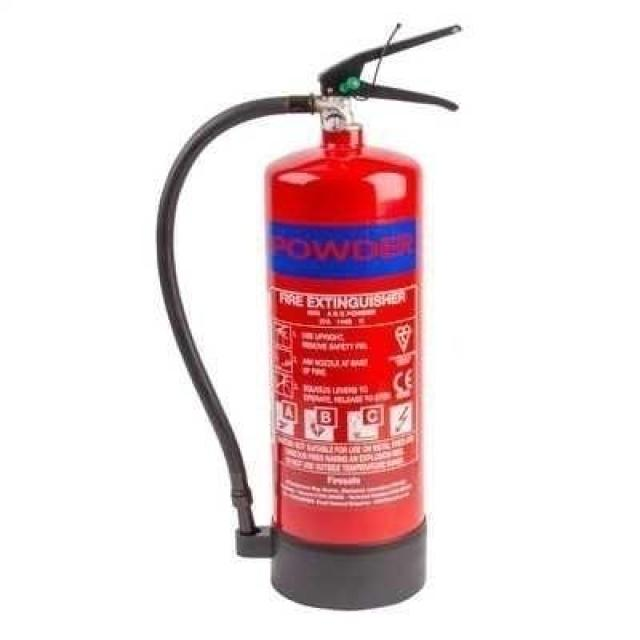fire_extinguisher: (147, 11, 469, 619)
